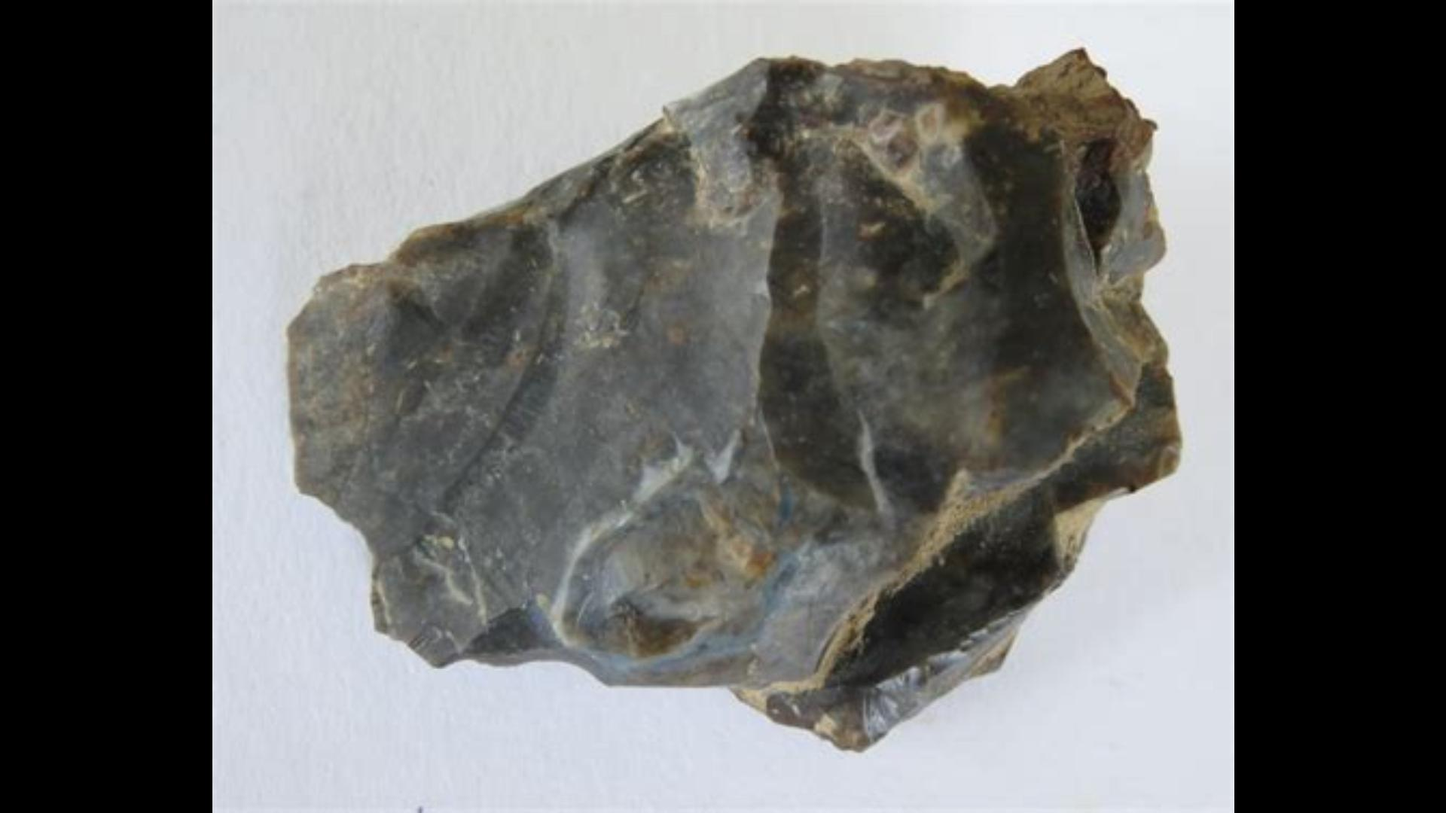rock: (287, 52, 1176, 742)
